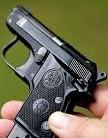gun: (1, 1, 108, 138)
